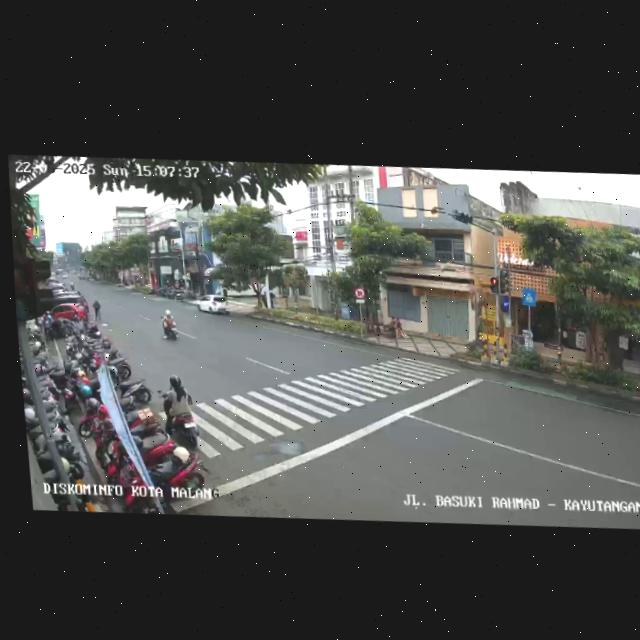car: (45, 286, 88, 326), (194, 292, 230, 316)
motorcycle: (162, 375, 199, 450), (159, 308, 181, 342)
person: (91, 295, 103, 323)
